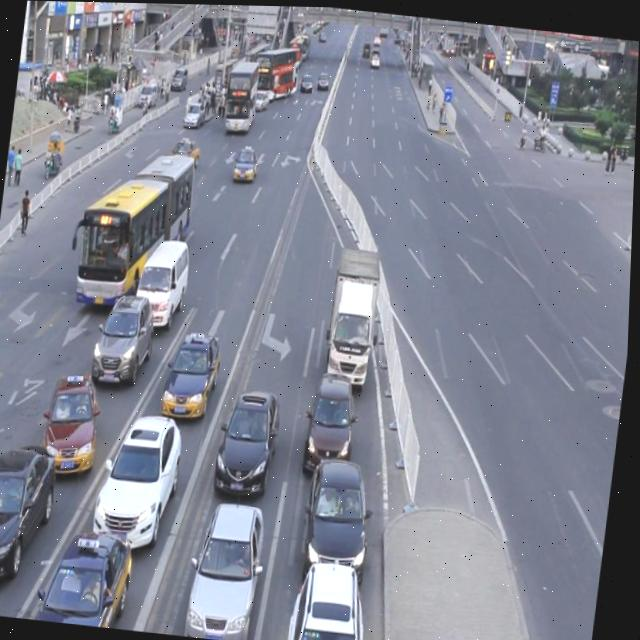bus: (326, 243, 386, 383)
car: (93, 404, 189, 553), (186, 492, 273, 640), (31, 519, 140, 629), (301, 450, 380, 577), (0, 435, 62, 586), (214, 380, 287, 498), (288, 548, 381, 640), (42, 368, 108, 477), (91, 288, 161, 387), (304, 365, 365, 478), (163, 324, 225, 419), (167, 134, 201, 168), (232, 143, 260, 181)
truck: (132, 231, 196, 331)
van: (75, 143, 197, 310)
